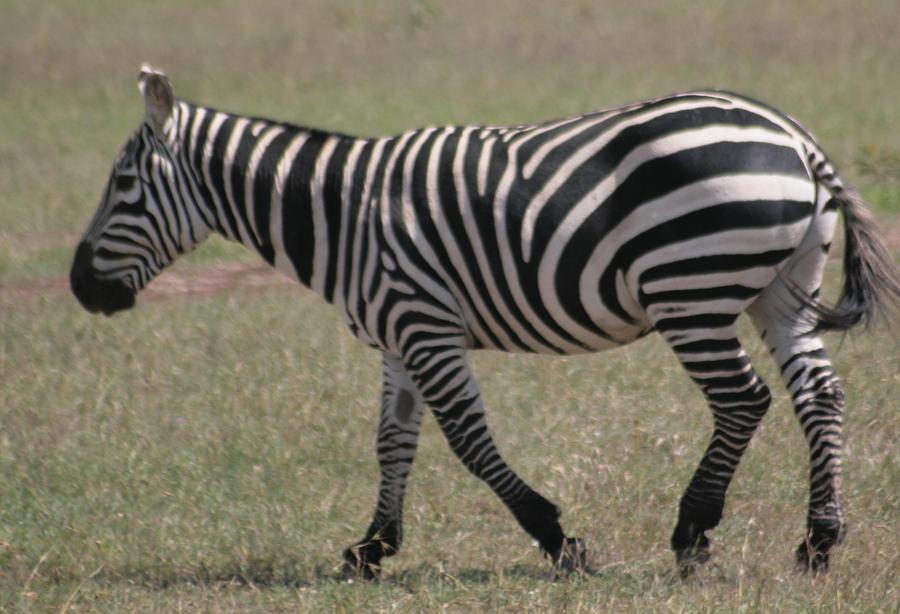zebra_plains: (328, 119, 763, 362)
